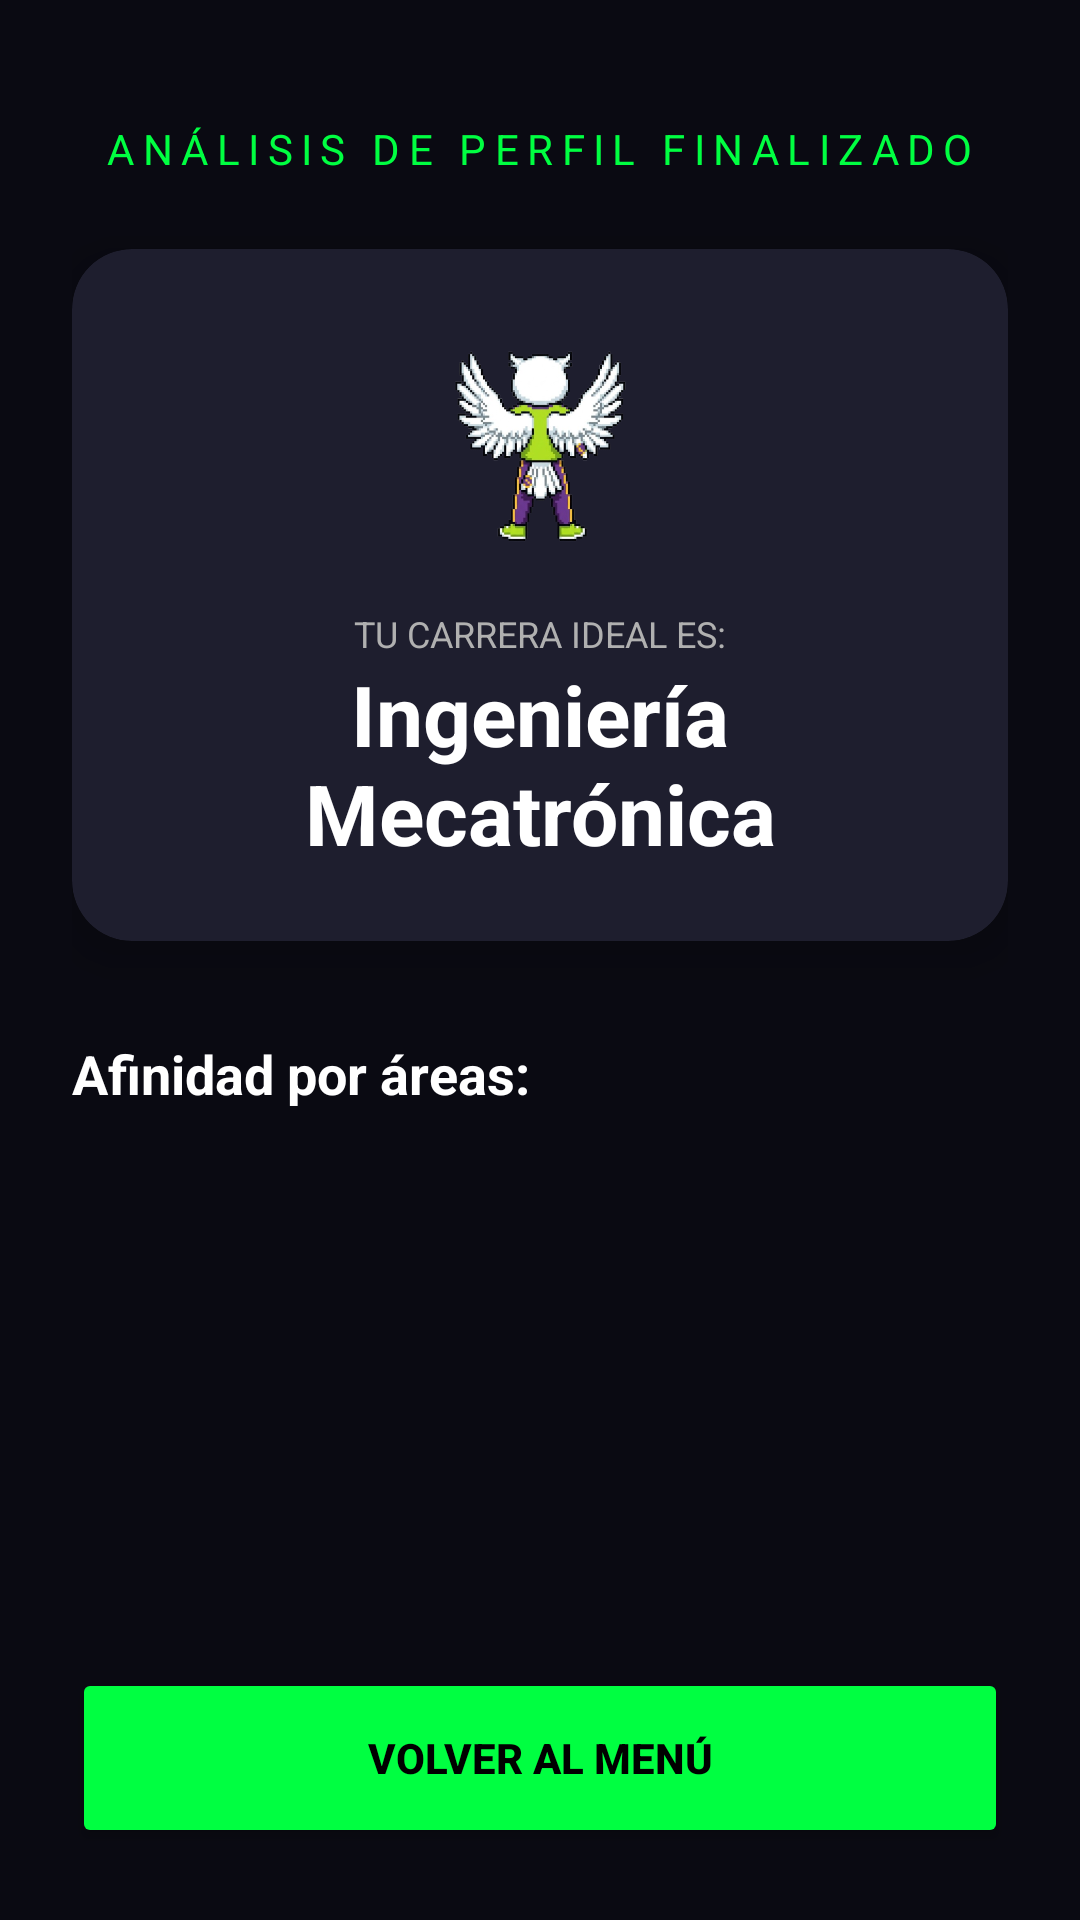

Icon bounding boxes for this 1080*1920 phone screenshot, format (x1,y1,x2,y2):
buho nave: (456,352,625,541)
